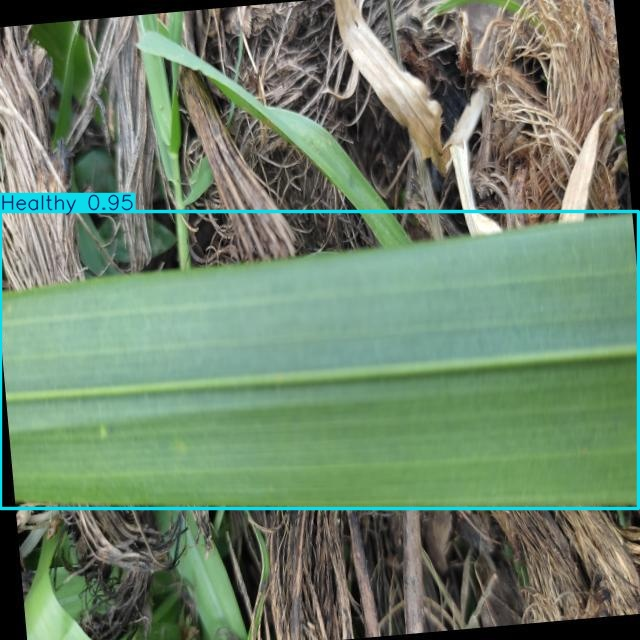Healthy: (1, 212, 639, 508)
